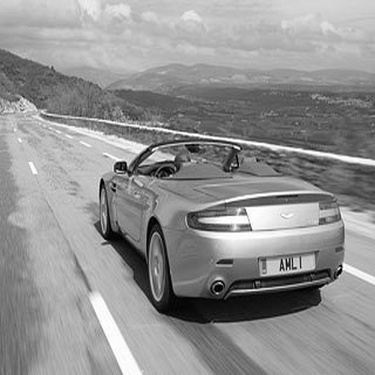car: (67, 120, 358, 329)
